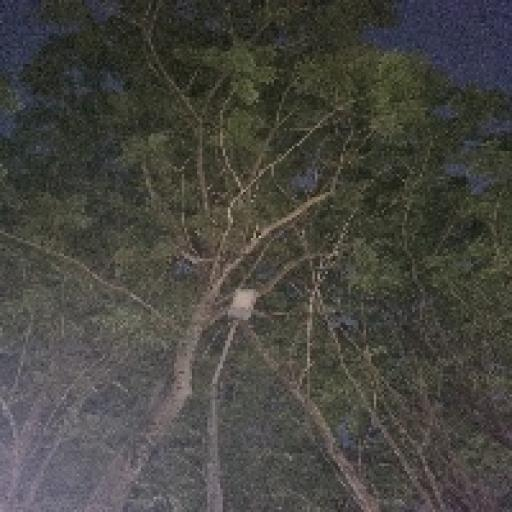Not Working: (217, 281, 269, 339)
